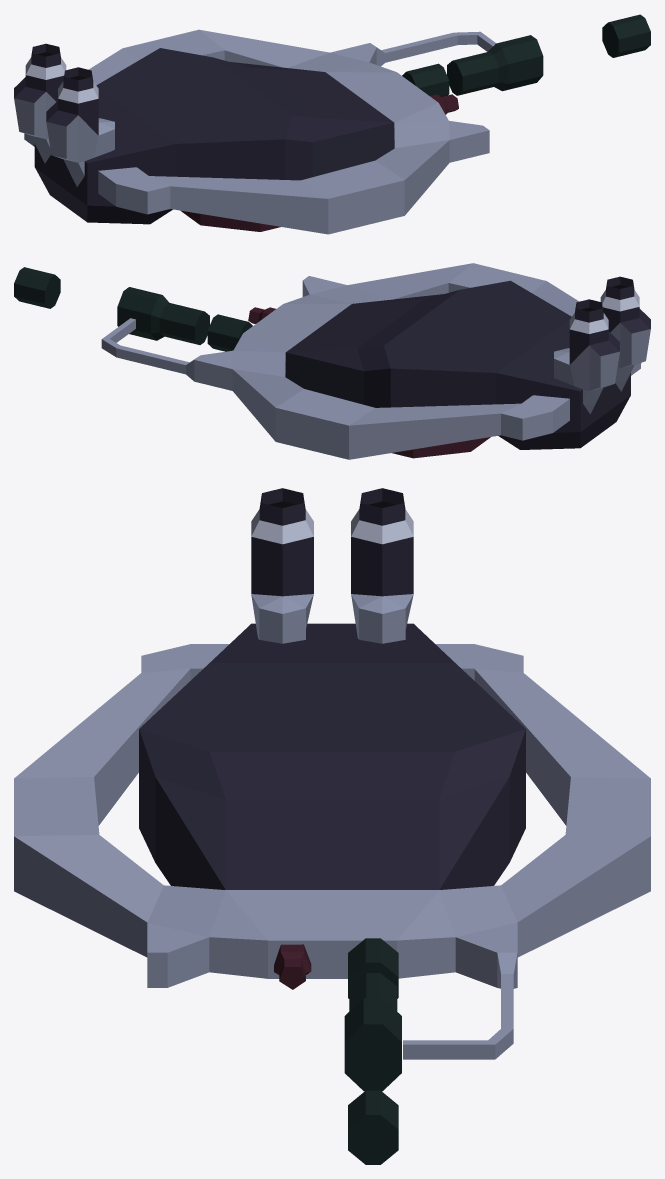
Rendered from Tank_tower.fbx.
The picture shows the model from 3 angles, top to bottom: view 1: azimuth 30°, elevation 25°; view 2: azimuth 150°, elevation 25°; view 3: azimuth 270°, elevation 25°; orthographic projection. The views are drawn at different scales.
Visible parts, largest first — view 1: Tower; view 2: Tower; view 3: Tower.
Boxes of the visible parts, x1,y1,x2,y2 form: Tower: (14, 14, 650, 234); Tower: (14, 263, 650, 459); Tower: (14, 488, 650, 1164).
Size of the model in its own units: 1107 by 303 by 630.
